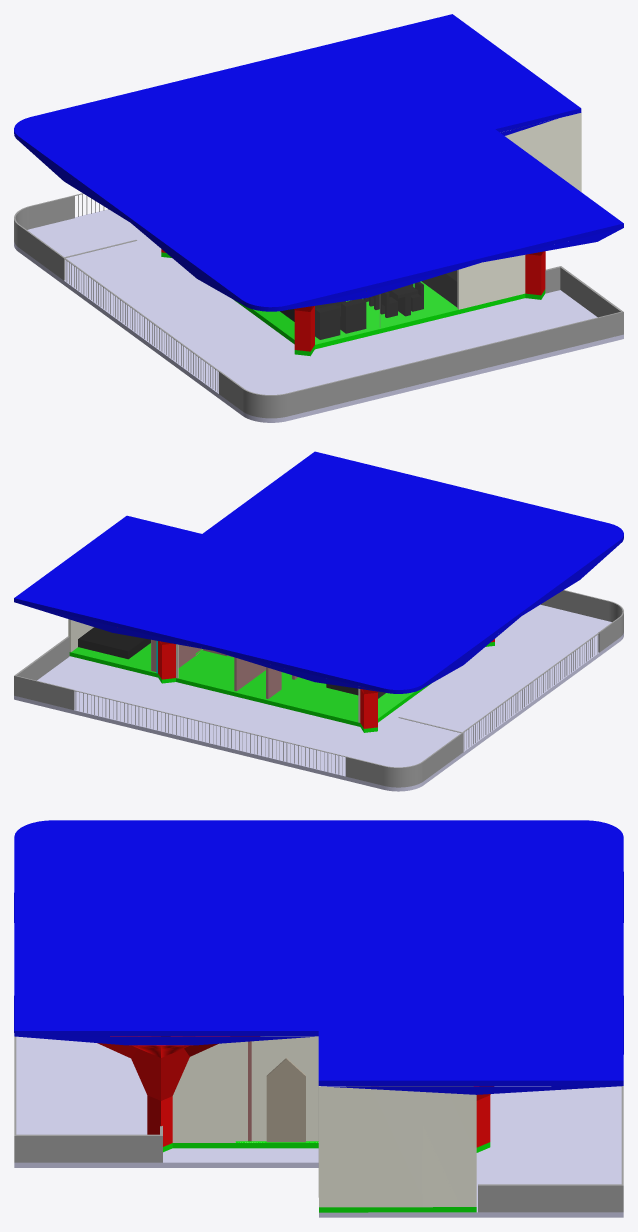
3 renders of one model, top to bottom at view 1: azimuth 30°, elevation 25°; view 2: azimuth 150°, elevation 25°; view 3: azimuth 270°, elevation 25°, orthographic. The views are drawn at different scales.
Parts seen in each view (by area): view 1: slabs, FLOOR PLATES, railings, EXTERNAL WALLS, glasses, floors, columns; view 2: slabs, FLOOR PLATES, railings, glasses, floors, internal walls, object 42, columns, EXTERNAL WALLS; view 3: slabs, EXTERNAL WALLS, FLOOR PLATES, railings, columns, floors.
Boxes of the visible parts, left/top/right/bottom form: slabs: left=14, top=14, right=623, bottom=311; FLOOR PLATES: left=14, top=209, right=623, bottom=422; railings: left=14, top=193, right=623, bottom=418; EXTERNAL WALLS: left=457, top=113, right=581, bottom=309; glasses: left=254, top=270, right=458, bottom=344; floors: left=161, top=252, right=545, bottom=356; columns: left=161, top=249, right=545, bottom=351; slabs: left=14, top=451, right=623, bottom=693; FLOOR PLATES: left=14, top=604, right=623, bottom=791; railings: left=14, top=590, right=623, bottom=787; glasses: left=71, top=620, right=413, bottom=721; floors: left=69, top=642, right=494, bottom=732; internal walls: left=151, top=639, right=297, bottom=698; object 42: left=78, top=627, right=150, bottom=659; columns: left=158, top=639, right=494, bottom=728; EXTERNAL WALLS: left=68, top=619, right=360, bottom=722; slabs: left=14, top=820, right=623, bottom=1094; EXTERNAL WALLS: left=172, top=1036, right=476, bottom=1207; FLOOR PLATES: left=14, top=1036, right=623, bottom=1217; railings: left=14, top=1036, right=623, bottom=1212; columns: left=97, top=1036, right=493, bottom=1147; floors: left=163, top=1141, right=490, bottom=1212.
Size of the model in its own units: 15.64 by 3.83 by 15.47.
